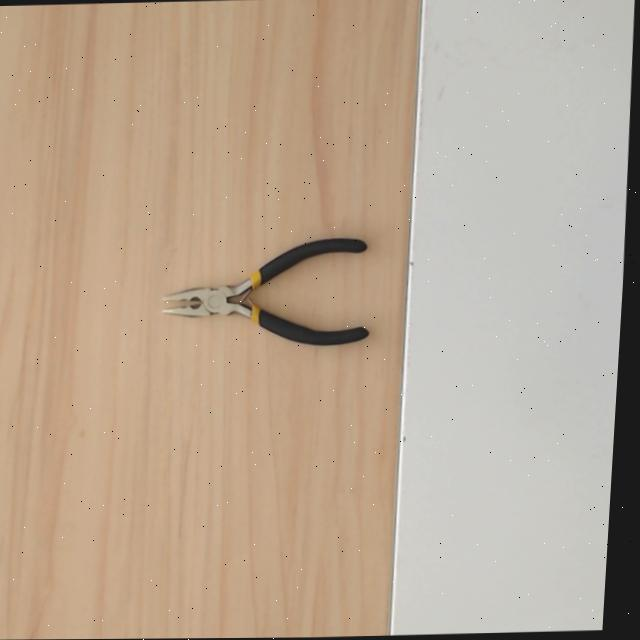Tang-Jepit-Hitam: (158, 237, 368, 348)
